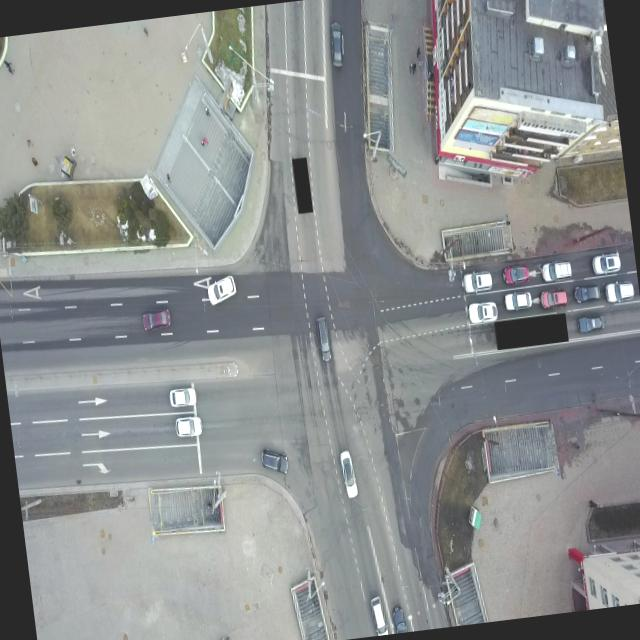car: (205, 273, 238, 306), (327, 19, 348, 68), (466, 297, 500, 327), (338, 448, 358, 498), (258, 444, 288, 476), (460, 268, 494, 296), (603, 278, 637, 306), (570, 310, 606, 336), (539, 258, 573, 285), (168, 382, 198, 412), (538, 284, 568, 313), (173, 412, 204, 440), (314, 314, 332, 362), (502, 287, 533, 314), (590, 250, 622, 276), (368, 594, 388, 635), (140, 305, 170, 332), (572, 280, 602, 305), (501, 262, 530, 286), (390, 602, 408, 632)
